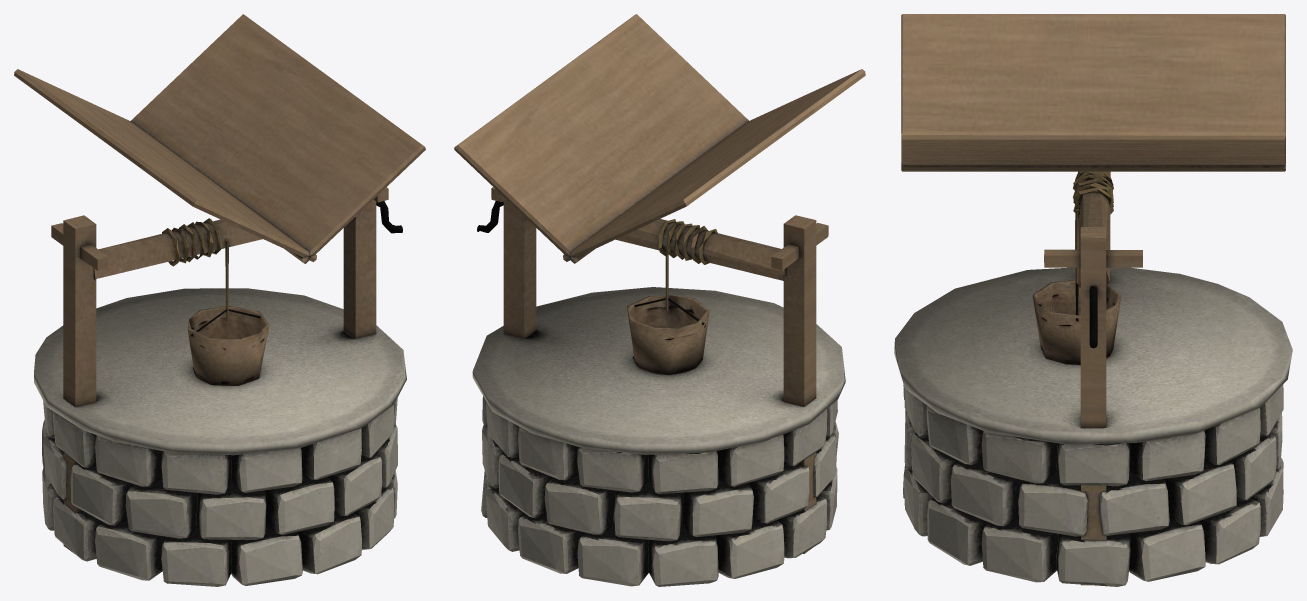
File: costa_poco_balde.glb
The picture shows the model from 3 angles, left to right: view 1: azimuth 30°, elevation 25°; view 2: azimuth 150°, elevation 25°; view 3: azimuth 270°, elevation 25°; orthographic projection. The views are drawn at different scales.
Parts seen in each view (by area): view 1: costa_poco_balde_tronco; view 2: costa_poco_balde_tronco; view 3: costa_poco_balde_tronco.
Boxes of the visible parts, box(x1,y1,x2,y2) form: costa_poco_balde_tronco: box(14, 14, 425, 586); costa_poco_balde_tronco: box(454, 14, 865, 586); costa_poco_balde_tronco: box(894, 14, 1292, 586).
Size of the model in its own units: 2.08 by 2.37 by 1.96.
1 material, 1 textured.
